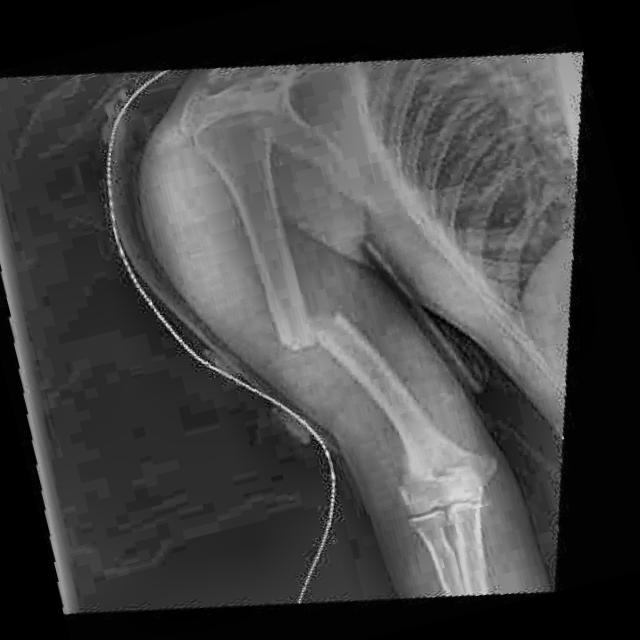humerus: (233, 270, 431, 404)
